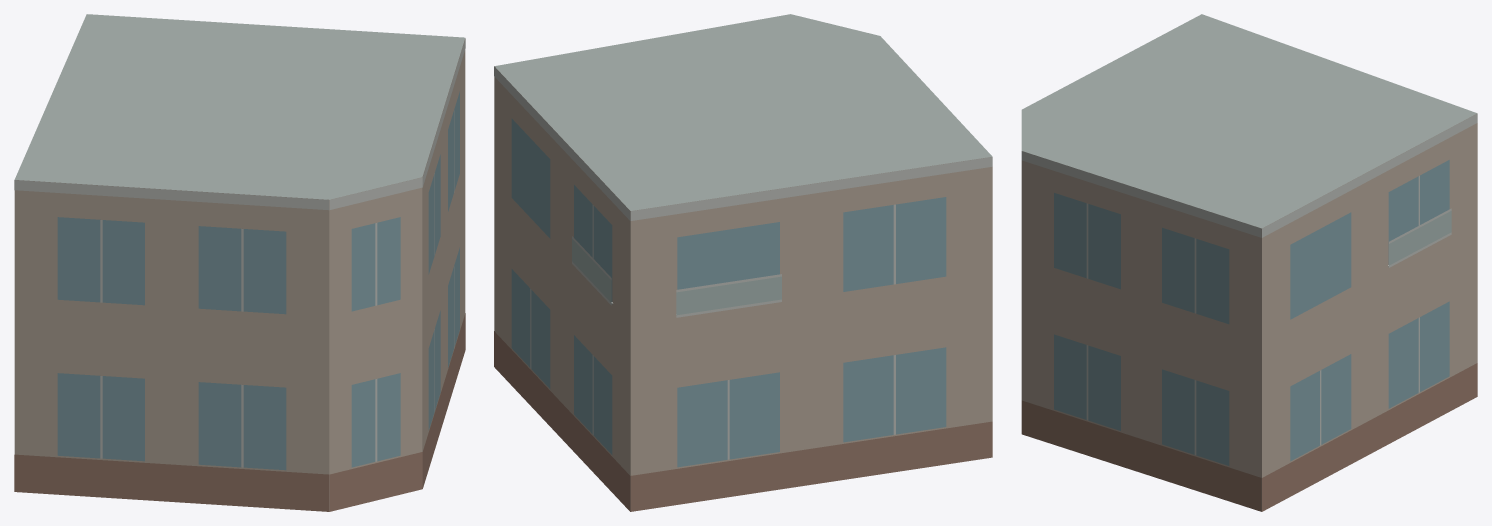
The model's file is survey-upis-32896254.glb.
3 views of the same model, side by side, from view 1: azimuth 30°, elevation 25°; view 2: azimuth 150°, elevation 25°; view 3: azimuth 270°, elevation 25° (orthographic). The views are drawn at different scales.
Parts seen in each view (by area): view 1: survey-upis-32896254.tmp; view 2: survey-upis-32896254.tmp; view 3: survey-upis-32896254.tmp.
Boxes of the visible parts, box(x1,y1,x2,y2) form: survey-upis-32896254.tmp: box(14, 14, 465, 511); survey-upis-32896254.tmp: box(494, 14, 992, 511); survey-upis-32896254.tmp: box(1021, 14, 1477, 511).
Size of the model in its own units: 11.86 by 7.3 by 10.66.
